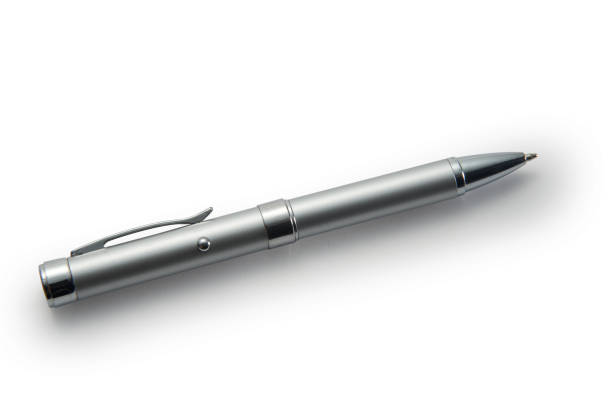pen: (35, 135, 546, 316)
